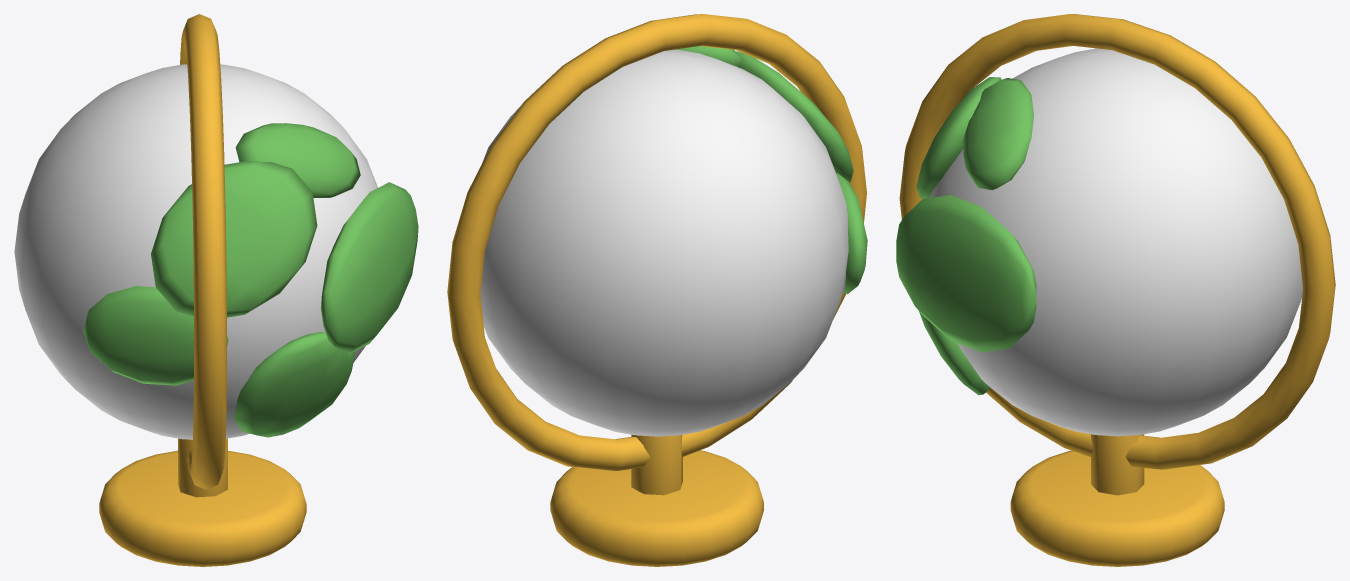
Rendered from globe.glb.
The picture shows the model from 3 angles, left to right: view 1: azimuth 30°, elevation 25°; view 2: azimuth 150°, elevation 25°; view 3: azimuth 270°, elevation 25°; orthographic projection. The views are drawn at different scales.
Parts seen in each view (by area): view 1: globe; view 2: globe; view 3: globe.
Part boxes in pixels (x1,y1,x2,y2): globe: [14, 14, 418, 566]; globe: [447, 14, 867, 566]; globe: [896, 14, 1335, 566].
Size of the model in its own units: 0.7096 by 1 by 0.7824.
